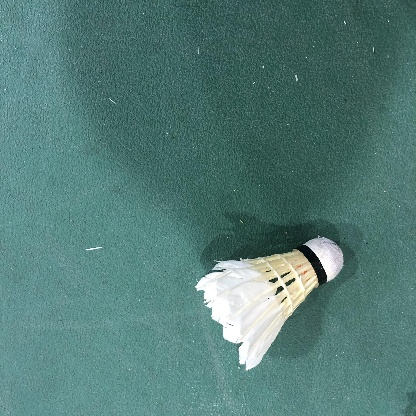ball_single: (195, 237, 343, 370)
